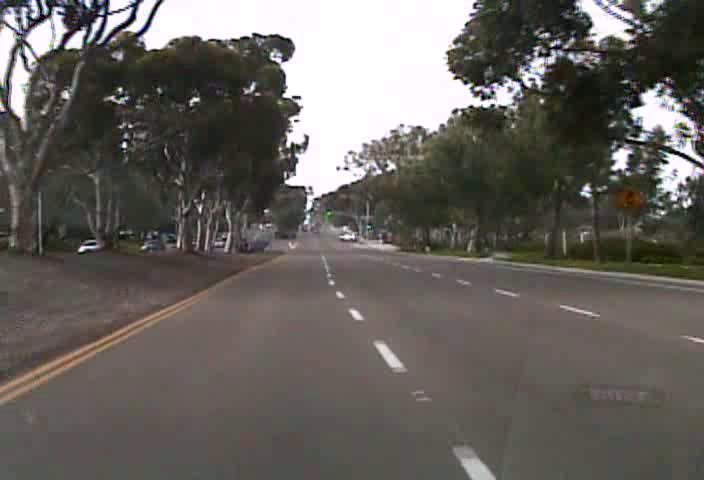signalAhead: (614, 186, 645, 214)
